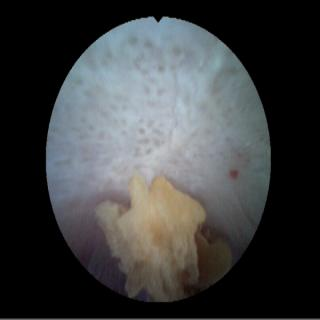stone: (98, 173, 229, 299)
tissue: (50, 19, 266, 285)
